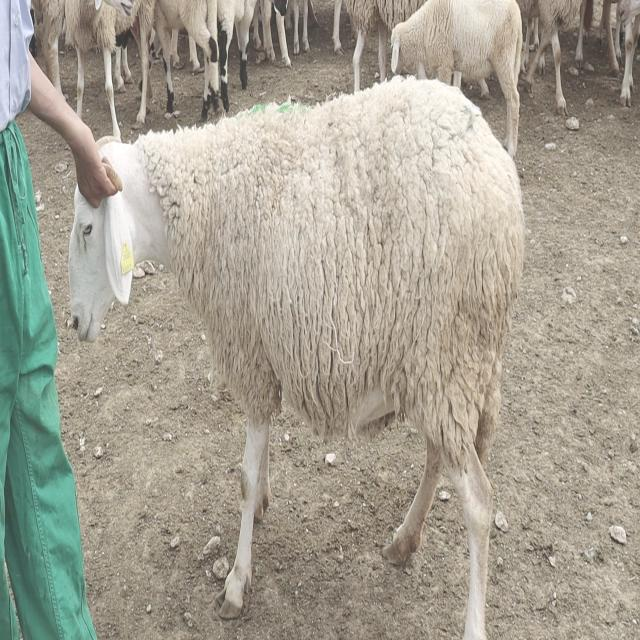Score_5: (69, 75, 525, 639)
